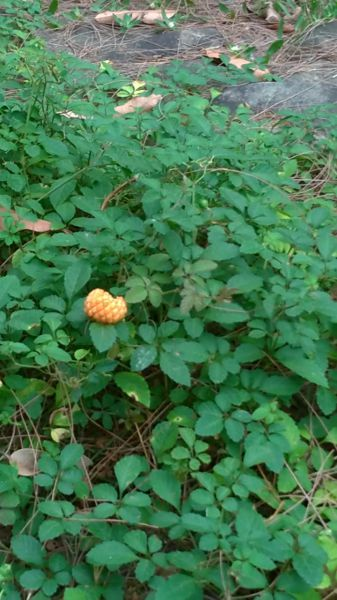eggs: (82, 288, 131, 326)
